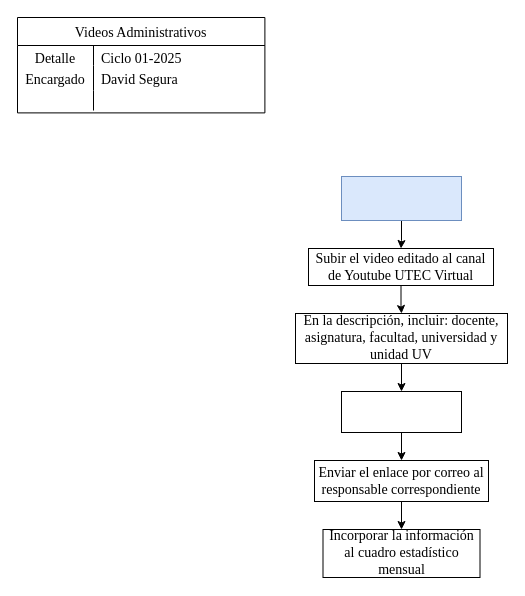
Some shapes in this 525 by 596 pixel diagram are drawn without their labels. The centre of each missing label's shape, as x and y in pixels:
"Copiar el enlace del video" goes at [401,411].
"Publicación y cierre" goes at [401,198].
